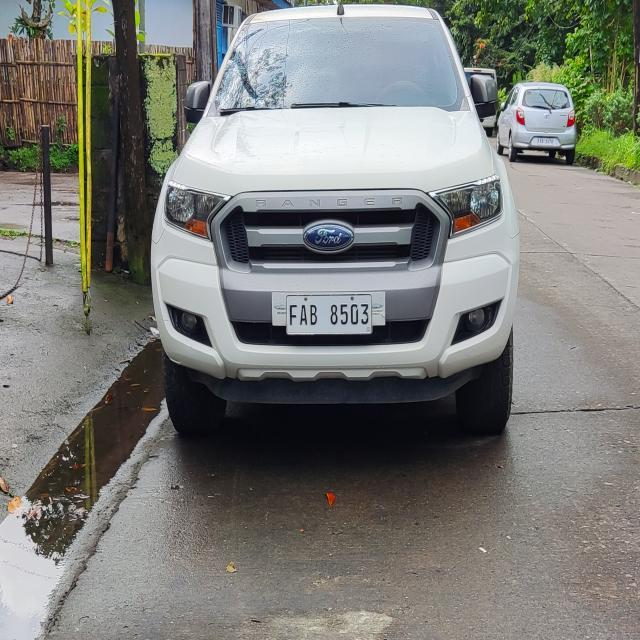LicensePlate: (284, 290, 376, 336)
